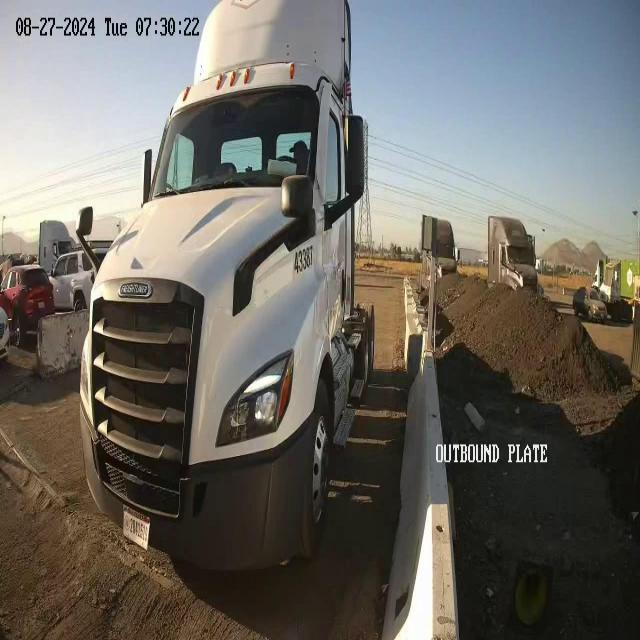TRUCK_OUT: (78, 1, 375, 576)
